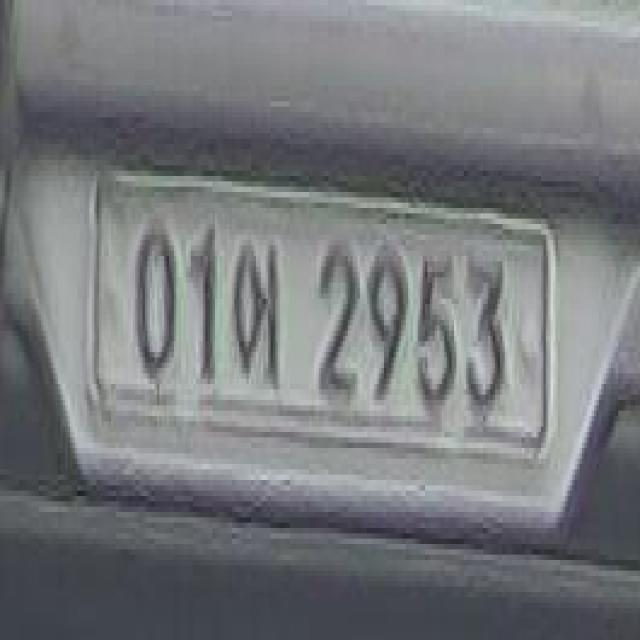illegal_plate: (82, 155, 556, 477)
